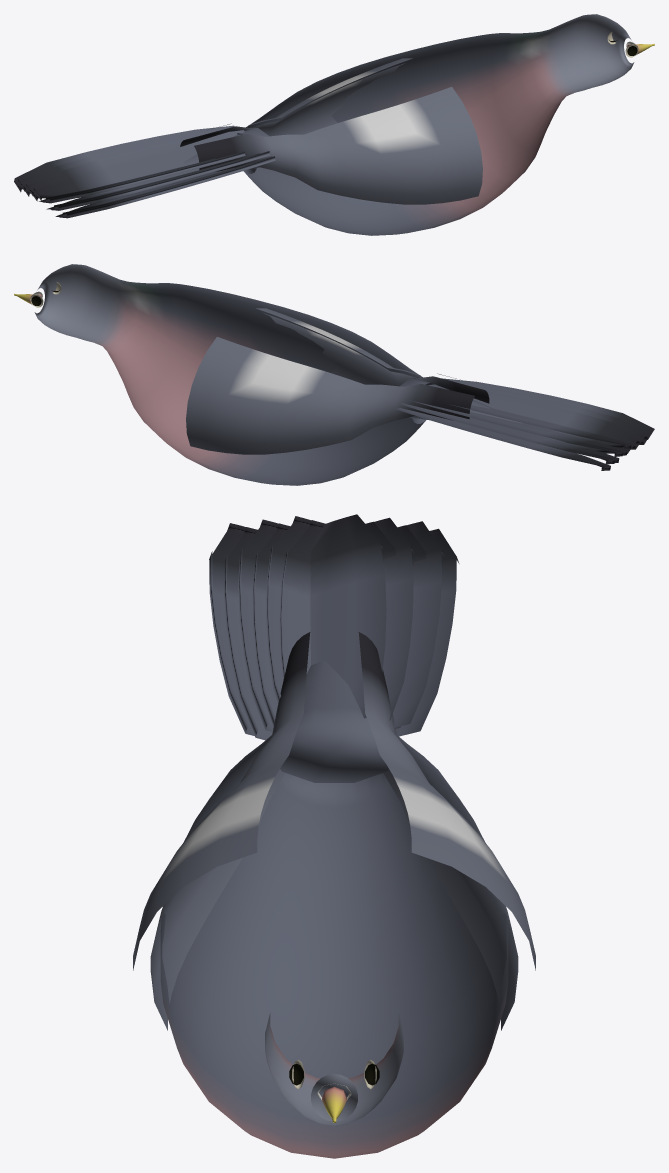
File: SM_Bird_wood_pigeon_closed.glb
3 renders of one model, top to bottom at view 1: azimuth 30°, elevation 25°; view 2: azimuth 150°, elevation 25°; view 3: azimuth 270°, elevation 25°, orthographic. The views are drawn at different scales.
Visible parts, largest first — view 1: SM_Bird_wood_pigeon_closed; view 2: SM_Bird_wood_pigeon_closed; view 3: SM_Bird_wood_pigeon_closed.
Boxes of the visible parts, left/top/right/bottom form: SM_Bird_wood_pigeon_closed: left=14, top=14, right=654, bottom=235; SM_Bird_wood_pigeon_closed: left=14, top=264, right=654, bottom=485; SM_Bird_wood_pigeon_closed: left=133, top=514, right=535, bottom=1158.
Bounding box in the file's own units: 0.4505 × 0.1147 × 0.1279.
